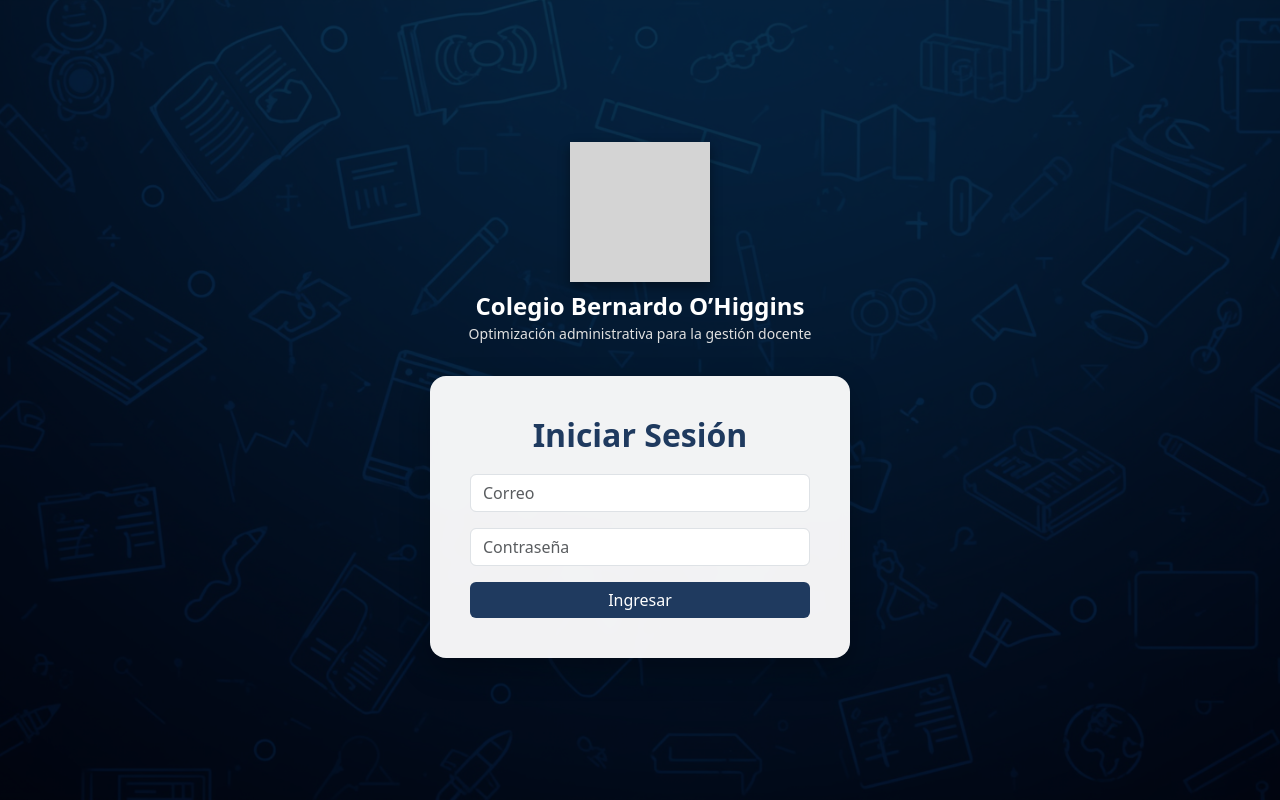
it: Login component › muestra error con contraseña incorrecta
Type "benjamin.profesor@cbohiggins.cl" into the field with placeholder "Correo".
click(640, 493); type("benjamin.profesor@cbohiggins.cl")  # box [470, 474, 810, 512]
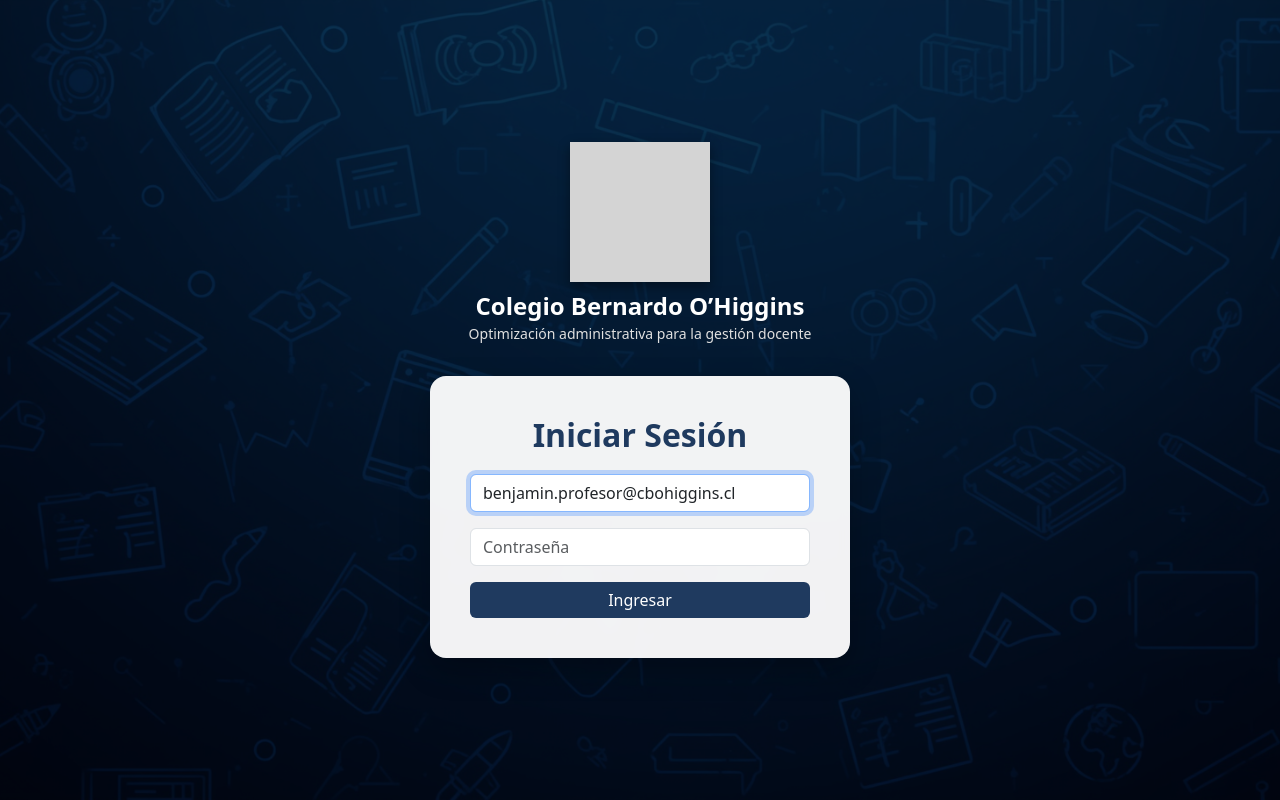
Type "wrongpass" into the password field with placeholder "Contraseña".
click(640, 547); type("wrongpass")  # box [470, 528, 810, 566]
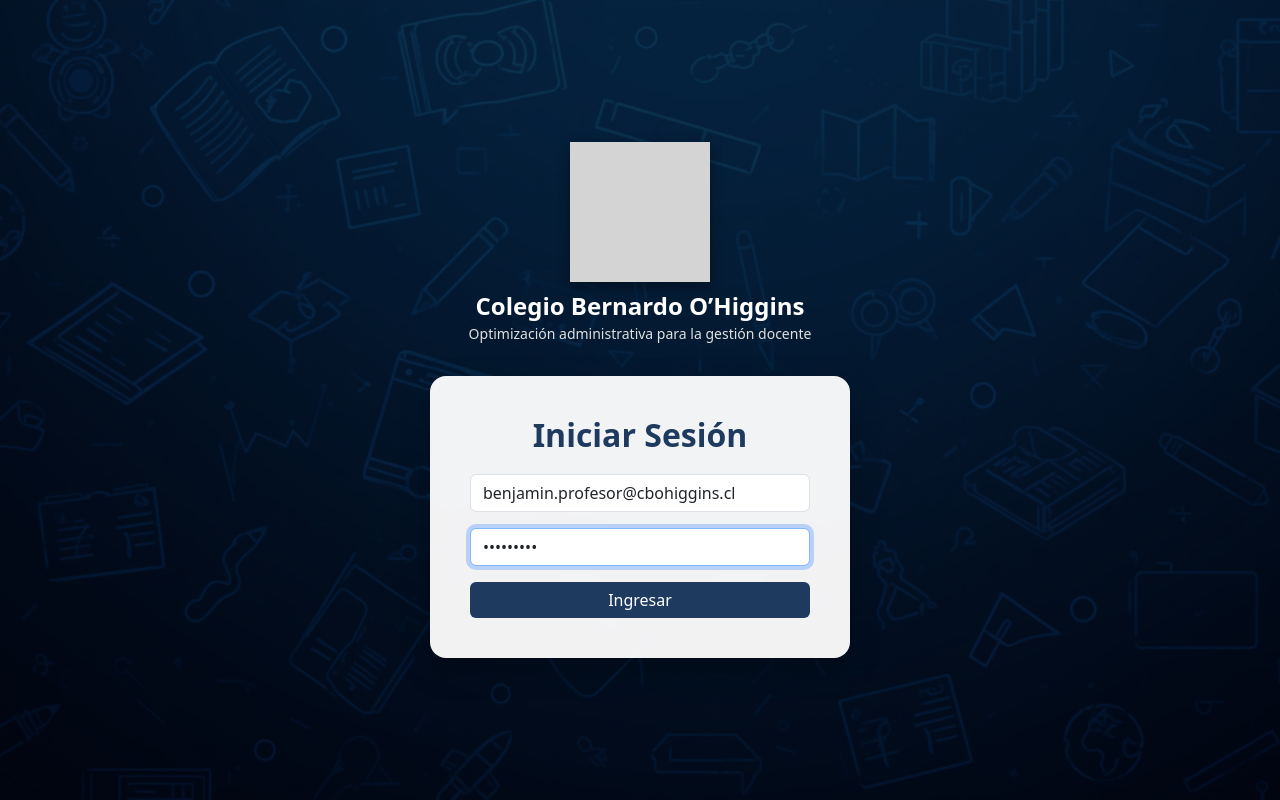
Click the button "Ingresar".
click(640, 600)  # box [470, 582, 810, 618]
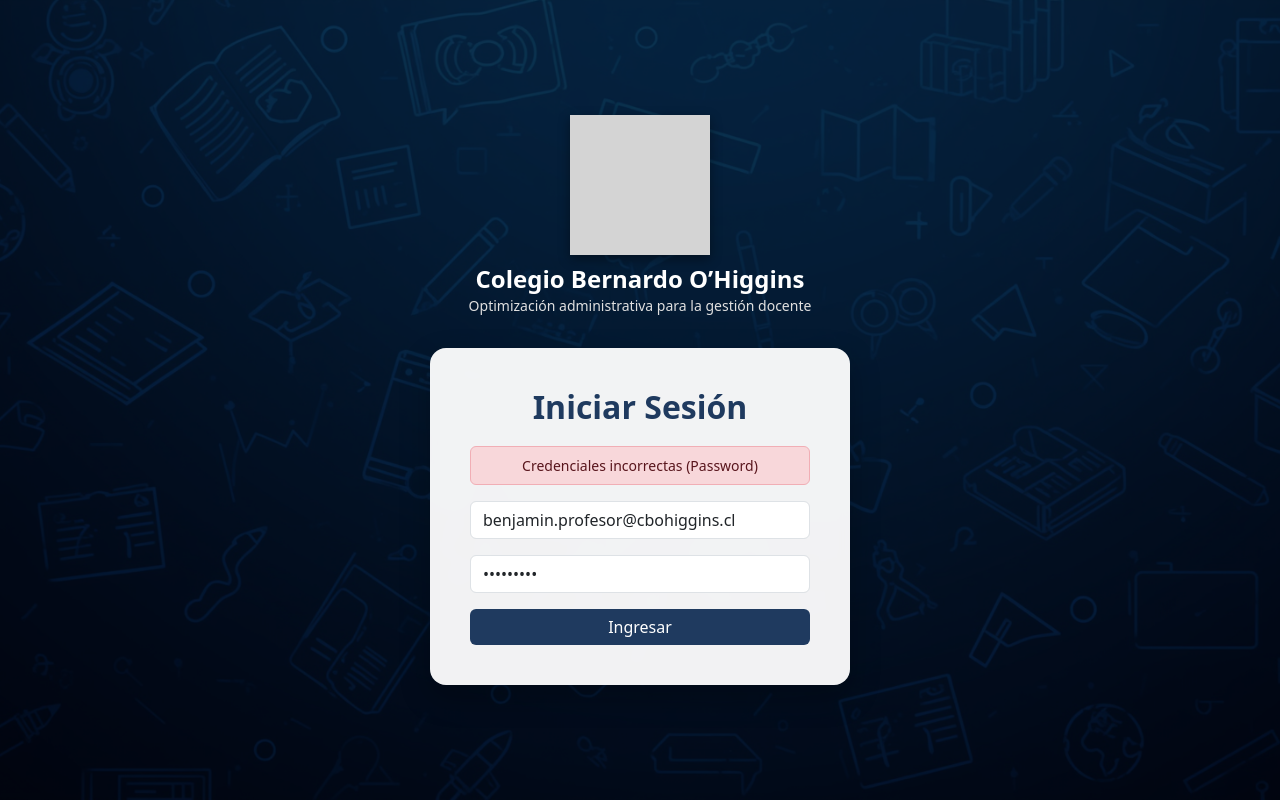
Check: the message shows "Credenciales incorrectas", box [522, 456, 758, 476]
